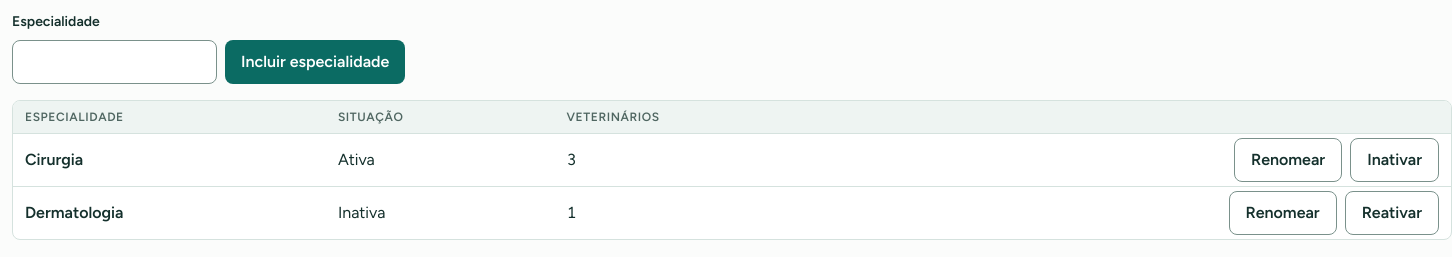
Scenario: especialidades (012/US-4, D52) › 012/CA-4.7 cancelar a renomeação volta aos botões da linha
Click the button with aria-label "Renomear Cirurgia".
click(1288, 160)  # box [1234,138,1342,182]
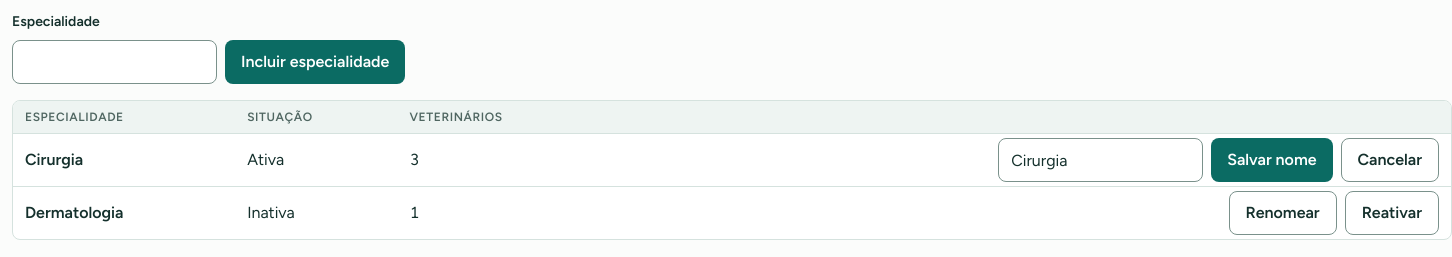
Click the button "Cancelar".
click(1390, 160)  # box [1340,138,1439,182]
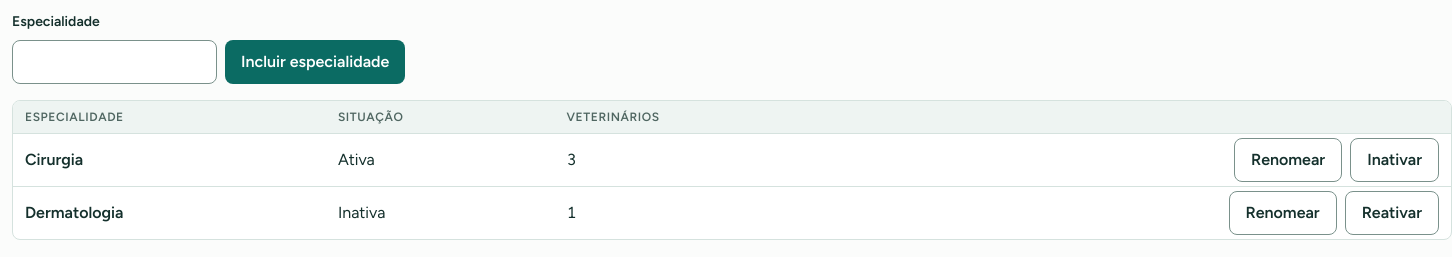
Expected: the field labelled "Novo nome de Cirurgia" is not shown
Expected: the button with aria-label "Renomear Cirurgia" is shown, [1234,138,1342,182]
